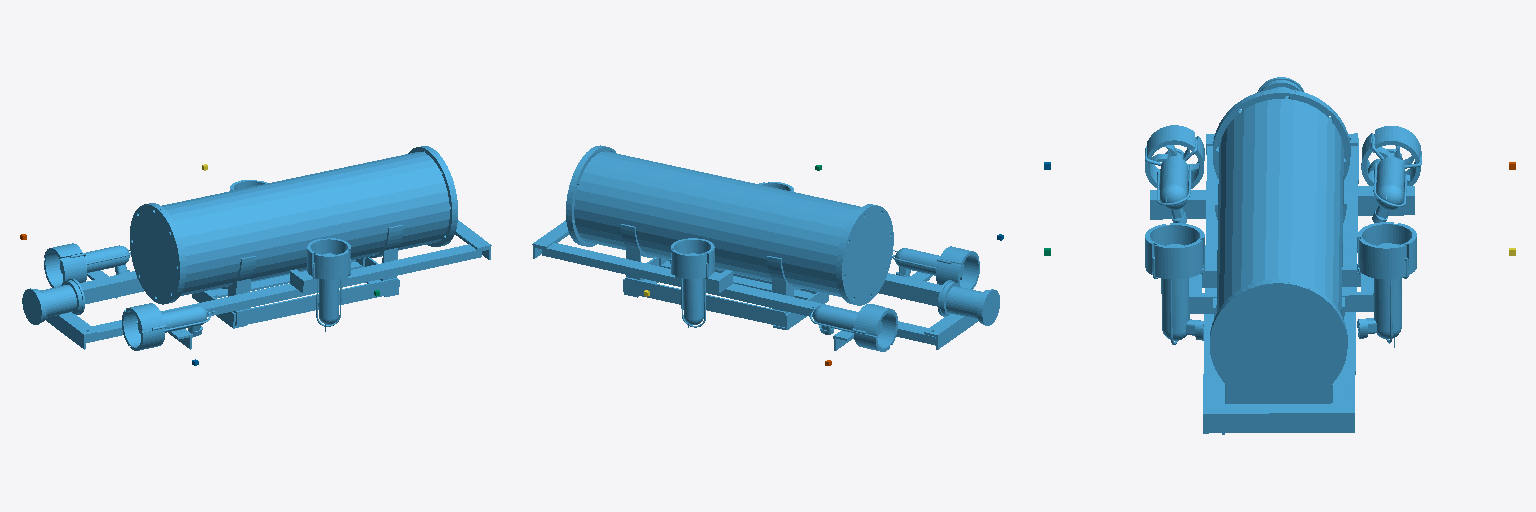
URDF robot description (Kraken):
<?xml version="1.0"?>
<robot name="Kraken">
  <!--gazebo reference="base">
    <material>Gazebo/GrassFloor</material>
  </gazebo-->
  <link name="world">
   <!--inertial>
      <origin xyz="0 0 0" /> 
      <mass value="0.01" />
      <inertia  ixx="0.01" ixy="0.0"  ixz="0.0"  iyy="0.01"  iyz="0.0"  izz="0.01" />
    </inertial>
    <visual>
      <origin xyz="0 0 0"/>
      <geometry>
        <box size=".01 .01 .01" />
      </geometry>
    </visual>
    <collision>
      <origin xyz="0 0 0"/>
      <geometry>
        <box size=".01 .01 .01" />
      </geometry>
    </collision-->
  </link>
  <!--gazebo reference="auv">
    <material>Gazebo/Green</material>
    <turnGravityOff>true</turnGravityOff>
  </gazebo-->
  <link name="auv_body">
    <inertial>
      <origin xyz="0 0 0" /> 
      <mass value="35" />
      <inertia  ixx="1" ixy="0.0"  ixz="0.0"  iyy="1"  iyz="0.0"  izz="1" />
    </inertial>
    <visual>
      <origin rpy="0 0 0" xyz="0 0 0"/>
      <geometry>
        <mesh filename="package://auv_visulaization/urdf/AUV/mesh_files/new_model_kraken.stl"/>
      </geometry>
    </visual>
    <collision>
      <origin rpy="0 0 0" xyz="0 0 0"/>
      <geometry>
        <mesh filename="package://auv_visulaization/urdf/AUV/mesh_files/new_model_kraken.stl"/>
      </geometry>
    </collision>
  </link>
  <gazebo reference="auv_body">
    <material>Gazebo/Green</material>
    <turnGravityOff>true</turnGravityOff>
  </gazebo>
  <link name="right_heave_thruster">
    <inertial>
      <origin xyz="0 0 0" /> 
      <mass value="0.01" />
      <inertia  ixx="0.01" ixy="0.0"  ixz="0.0"  iyy="0.01"  iyz="0.0"  izz="0.01" />
    </inertial>
    <visual>
      <origin xyz="0 0 0"/>
      <geometry>
        <box size=".01 .01 .01" />
      </geometry>
    </visual>
    <collision>
      <origin xyz="0 0 0"/>
      <geometry>
        <box size=".01 .01 .01" />
      </geometry>
    </collision>
  </link>
  <gazebo reference="right_heave_thruster">
    <material>Gazebo/Red</material>
    <turnGravityOff>true</turnGravityOff>
  </gazebo>
  <link name="left_heave_thruster">
    <inertial>
      <origin xyz="0 0 0" /> 
      <mass value="0.01" />
      <inertia  ixx="0.01" ixy="0.00"  ixz="0.0"  iyy="0.01"  iyz="0.0"  izz="0.001" />
    </inertial>
    <visual>
      <origin xyz="0 0 0"/>
      <geometry>
        <box size=".01 .01 .01" />
      </geometry>
    </visual>
    <collision>
      <origin xyz="0 0 0"/>
      <geometry>
        <box size=".01 .01 .01" />
      </geometry>
    </collision>
  </link>
  <gazebo reference="left_heave_thruster">
    <material>Gazebo/Red</material>
    <turnGravityOff>true</turnGravityOff>
  </gazebo>
  <link name="right_surge_thruster">
    <inertial>
      <origin xyz="0 0 0" /> 
      <mass value="0.01" />
      <inertia  ixx="0.01" ixy="0.00"  ixz="0.0"  iyy="0.001"  iyz="0.0"  izz="0.01" />
    </inertial>
    <visual>
      <origin xyz="0 0 0"/>
      <geometry>
        <box size=".01 .01 .01" />
      </geometry>
    </visual>
    <collision>
      <origin xyz="0 0 0"/>
      <geometry>
        <box size=".01 .01 .01" />
      </geometry>
    </collision>
  </link>
  <gazebo reference="right_surge_thruster">
    <material>Gazebo/Blue</material>
    <turnGravityOff>true</turnGravityOff>
  </gazebo>
  <link name="left_surge_thruster">
    <inertial>
      <origin xyz="0 0 0" /> 
      <mass value="0.01" />
      <inertia  ixx="0.01" ixy="0.00"  ixz="0.0"  iyy="0.001"  iyz="0.0"  izz="0.01" />
    </inertial>
    <visual>
      <origin xyz="0 0 0"/>
      <geometry>
        <box size=".01 .01 .01" />
      </geometry>
    </visual>
    <collision>
      <origin xyz="0 0 0"/>
      <geometry>
        <box size=".01 .01 .01" />
      </geometry>
    </collision>
  </link>
  <gazebo reference="left_surge_thruster">
    <material>Gazebo/Blue</material>
    <turnGravityOff>true</turnGravityOff>
  </gazebo>
  <joint name="world_to_base_link" type="fixed">
    <parent link="world"/>
    <child link="auv_body"/>
    <axis xyz="0 0 0"/>
    <origin rpy="0 0.0 0" xyz="0 0 0"/>
  </joint>
  <joint name="right_heave_thruster_to_base_link" type="fixed">
    <parent link="world"/>
    <child link="right_heave_thruster"/>
    <axis xyz="0 1 0"/>
    <!--origin rpy="0 0.0 0" xyz="-0.428 -0.17 0.12"/-->
    <origin rpy="0 0.0 0" xyz="-0.428 -0.37 0.12"/>
  </joint>
  <joint name="left_heave_thruster_to_base_link" type="fixed">
    <parent link="world"/>
    <child link="left_heave_thruster"/>
    <axis xyz="0 1 0"/>
    <!--origin rpy="0 0.0 0" xyz="-0.428 0.17 0.12"/-->
    <origin rpy="0 0.0 0" xyz="-0.428 0.37 0.12"/>
  </joint>
  <joint name="right_surge_thruster_to_base_link" type="fixed">
    <parent link="world"/>
    <child link="right_surge_thruster"/>
    <axis xyz="0 1 0"/>
    <!--origin rpy="0 0.0 0" xyz="-0.88 -0.17 0.06"/-->
    <origin rpy="0 0.0 0" xyz="-0.88 -0.37 0.06"/>
  </joint>
  <joint name="left_surge_thruster_to_base_link" type="fixed">
    <parent link="world"/>
    <child link="left_surge_thruster"/>
    <axis xyz="0 1 0"/>
    <origin rpy="0 0.0 0" xyz="-0.88 0.37 0.06"/>
    <!--origin rpy="0 0.0 0" xyz="-0.88 0.17 0.06"/-->
  </joint>
</robot>

--- What the picture shows (computed from the rendered views, not written in the file) ---
3 views of the same robot in one strip: view 1: azimuth 30°, elevation 25°; view 2: azimuth 150°, elevation 25°; view 3: azimuth 270°, elevation 25° (orthographic).
Robot: Kraken — 6 links, 5 joints (5 fixed); root link world; default pose: every joint at zero.
Links seen in each view (by area): view 1: auv_body; view 2: auv_body; view 3: auv_body.
Link boxes in pixels (<box>): auv_body: <box>22,146,491,350</box>; auv_body: <box>532,145,999,351</box>; auv_body: <box>1145,77,1421,434</box>.
Bounding box of the posed robot: 1.07 × 0.75 × 0.2996 m (x, y, z).
1 mesh visuals loaded from 1 distinct referenced files (1 binary STL).